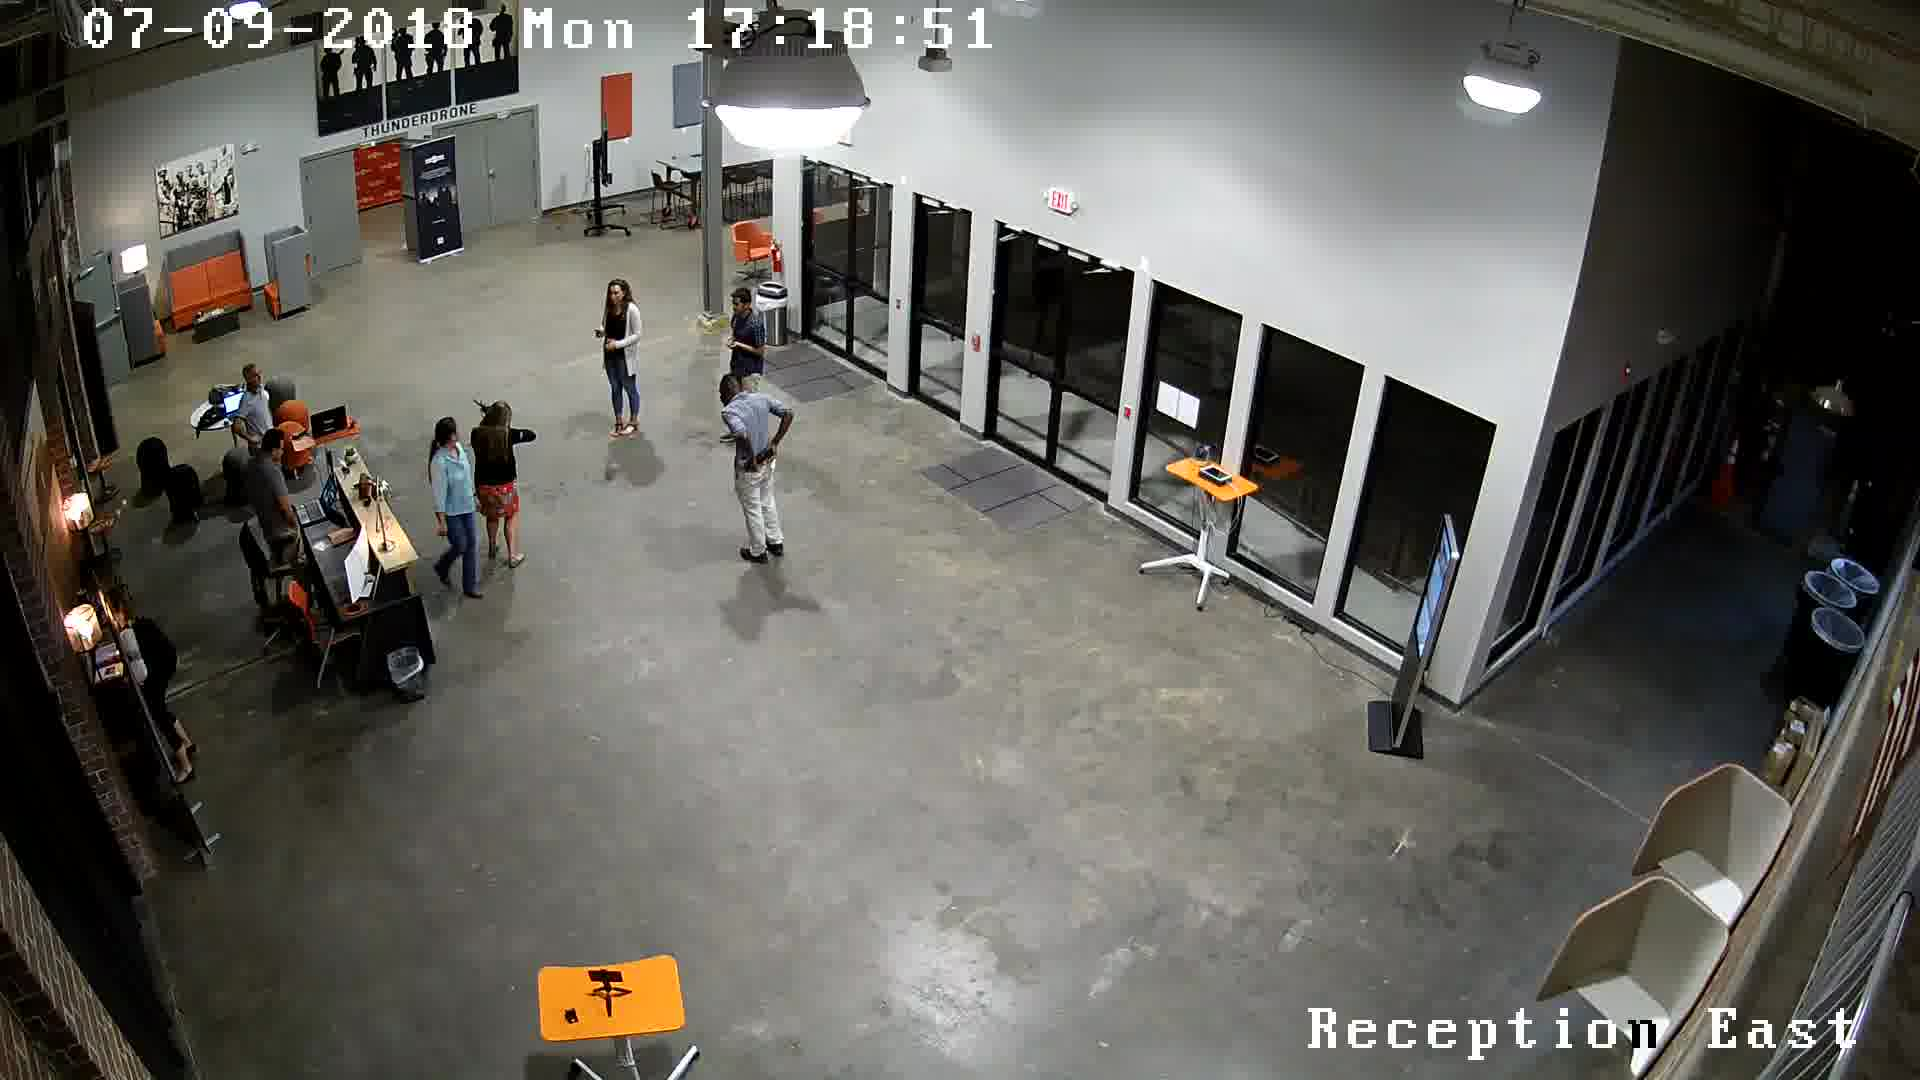pistol: (713, 319, 745, 364), (746, 444, 779, 483)
